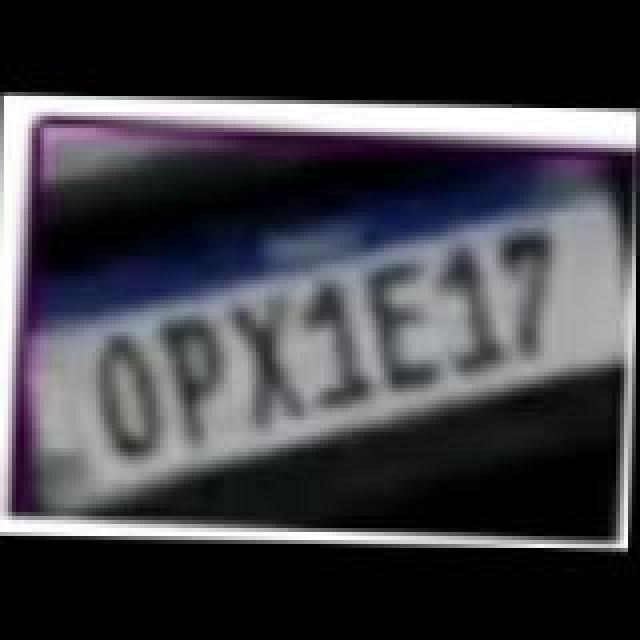1: (298, 280, 382, 412), (434, 242, 510, 374)
7: (490, 232, 566, 360)
E: (362, 258, 446, 390)
O: (94, 332, 174, 460)
P: (158, 320, 238, 448)
X: (228, 296, 316, 428)
